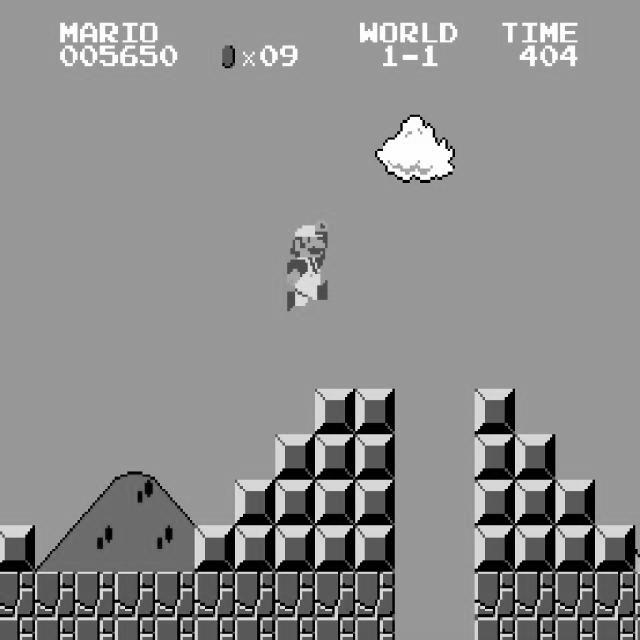17- undestructible_block: (34, 572, 76, 618), (74, 572, 116, 618), (114, 572, 156, 618), (154, 572, 196, 618), (194, 572, 236, 618), (234, 572, 276, 618), (274, 572, 316, 618), (314, 572, 356, 618), (354, 572, 396, 618), (474, 572, 516, 618), (514, 572, 556, 618), (554, 572, 596, 618), (594, 572, 636, 618), (0, 572, 35, 618), (34, 617, 76, 640), (74, 617, 116, 640), (114, 617, 156, 640), (154, 617, 196, 640), (194, 617, 236, 640), (234, 617, 276, 640), (274, 617, 316, 640), (314, 617, 356, 640), (354, 617, 396, 640), (474, 617, 516, 640), (514, 617, 556, 640), (554, 617, 596, 640), (594, 617, 636, 640), (0, 617, 35, 640), (635, 572, 640, 618), (635, 617, 640, 640)
4- fire_mario: (284, 217, 328, 311)
9- hard_block: (194, 526, 236, 572), (234, 480, 276, 526), (234, 526, 276, 572), (274, 434, 316, 480), (274, 480, 316, 526), (274, 526, 316, 572), (314, 388, 356, 434), (314, 434, 356, 480), (314, 480, 356, 526), (314, 526, 356, 572), (354, 388, 396, 434), (354, 434, 396, 480), (354, 480, 396, 526), (354, 526, 396, 572), (474, 388, 516, 434), (474, 434, 516, 480), (474, 480, 516, 526), (474, 526, 516, 572), (514, 434, 556, 480), (514, 480, 556, 526), (514, 526, 556, 572), (554, 480, 596, 526), (554, 526, 596, 572), (594, 526, 636, 572), (0, 526, 35, 572)
